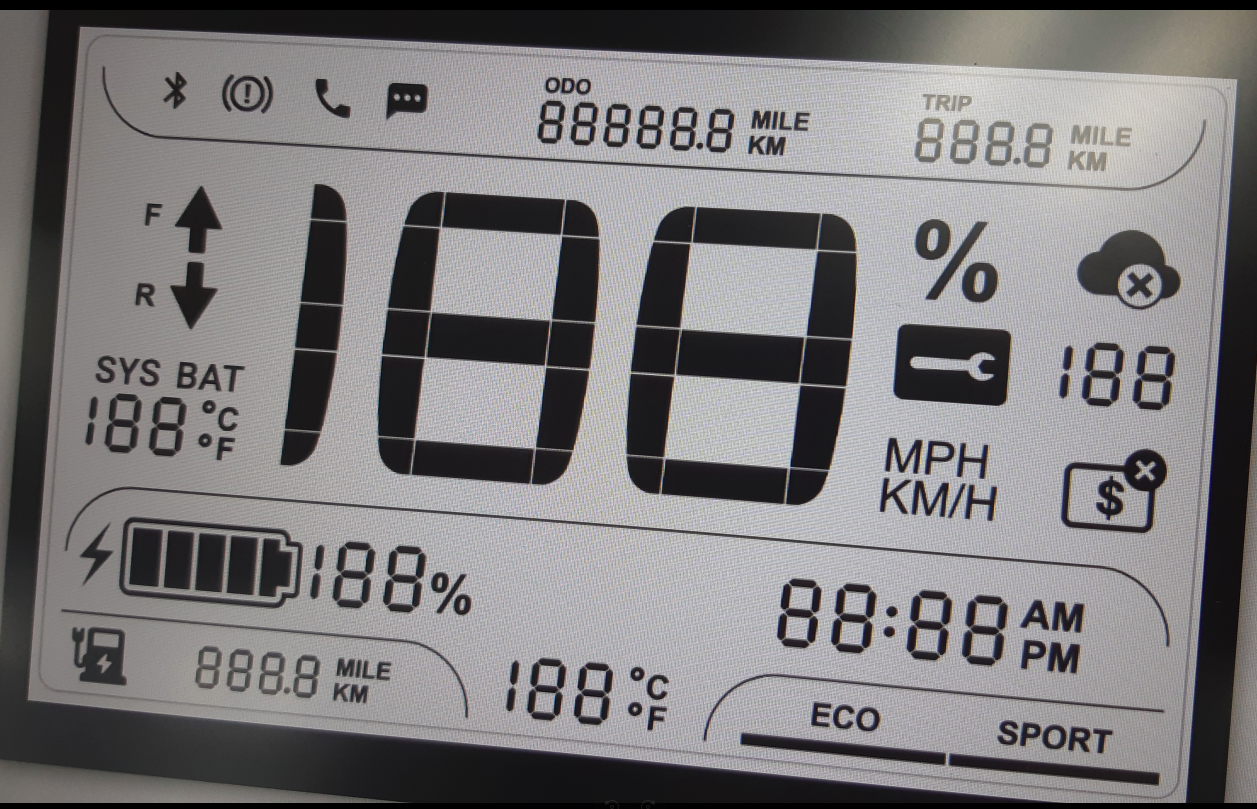bluetooth_on: (155, 68, 199, 116)
braking_on: (218, 66, 278, 121)
calling_on: (307, 71, 358, 126)
connection_lost: (1067, 220, 1183, 316)
error_code: (886, 317, 1016, 415)
low_battery: (63, 620, 133, 687)
sms_on: (382, 77, 434, 125)
vin_id: (1057, 442, 1169, 537)
